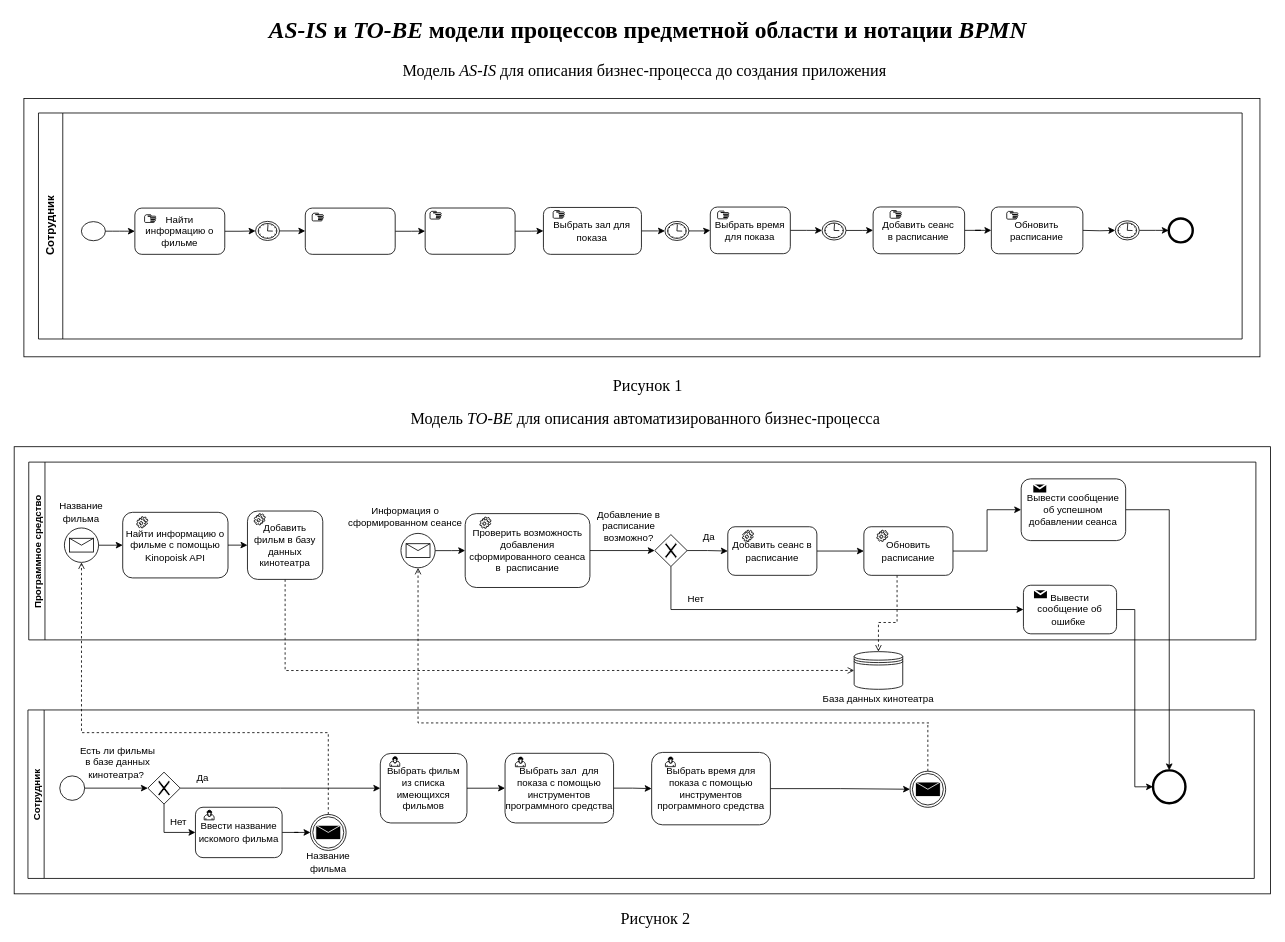
Image size: 1285x942. Some labels were removed from this diagram. Here are the shapes that lost their labels. From the top down, the centre of each, then its label:
(x=349, y=230): Добавить фильм в список имеющихся
(x=469, y=230): Выбрать фильм для показа
(x=927, y=788): Сформированный сеанс
